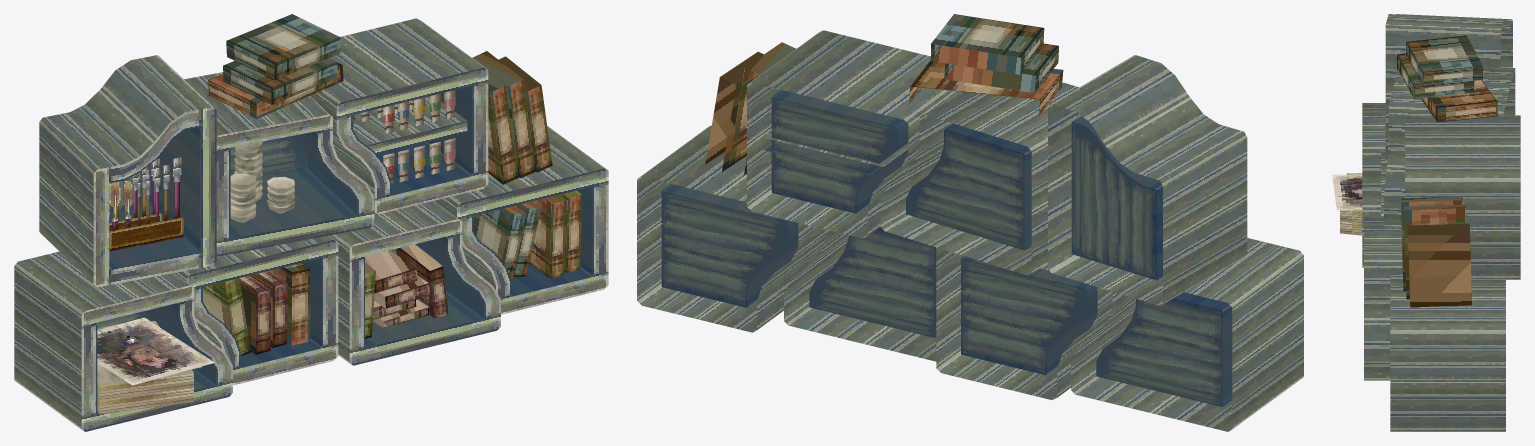
The model's file is tana57_1.glb.
3 views of the same model, side by side, from view 1: azimuth 30°, elevation 25°; view 2: azimuth 150°, elevation 25°; view 3: azimuth 270°, elevation 25° (orthographic). The views are drawn at different scales.
Parts seen in each view (by area): view 1: tana57_1; view 2: tana57_1; view 3: tana57_1.
Boxes of the visible parts, left/top/right/bottom form: tana57_1: left=14, top=14, right=608, bottom=431; tana57_1: left=637, top=14, right=1303, bottom=431; tana57_1: left=1332, top=14, right=1520, bottom=431.
Bounding box in the file's own units: 699 × 368 × 244.
Materials: 10 (10 with a texture image).
